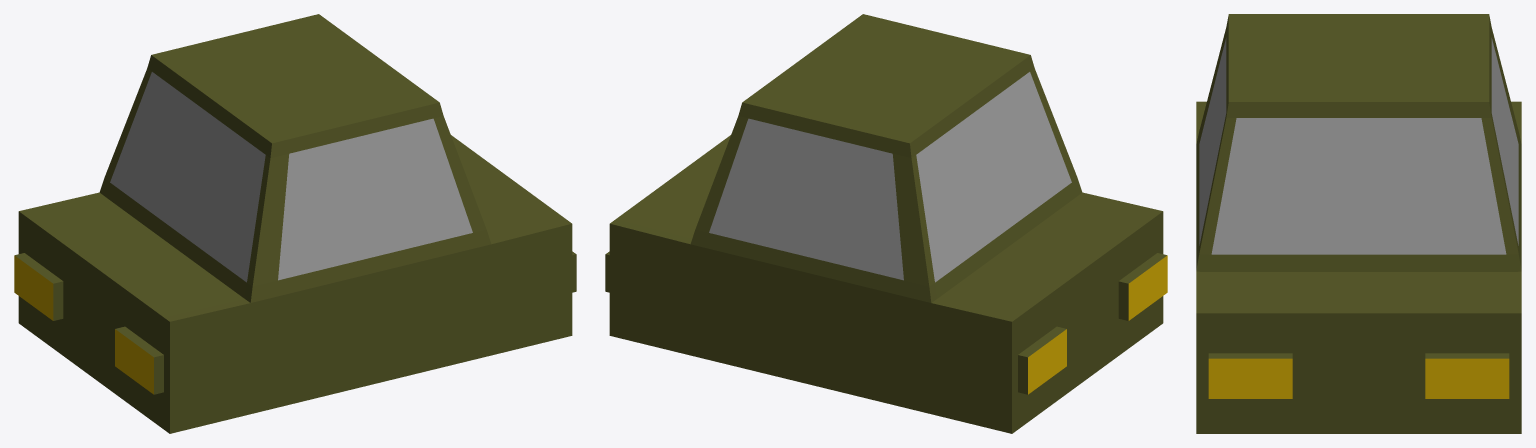
Rendered from Car Test.fbx.
3 renders of one model, left to right at view 1: azimuth 30°, elevation 25°; view 2: azimuth 150°, elevation 25°; view 3: azimuth 270°, elevation 25°, orthographic. The views are drawn at different scales.
Parts seen in each view (by area): view 1: Cube.001; view 2: Cube.001; view 3: Cube.001.
Part boxes in pixels (box(x1,y1,x2,y2)): Cube.001: box(14, 14, 576, 433); Cube.001: box(605, 14, 1167, 433); Cube.001: box(1196, 14, 1521, 433).
Size of the model in its own units: 210 by 119 by 130.
